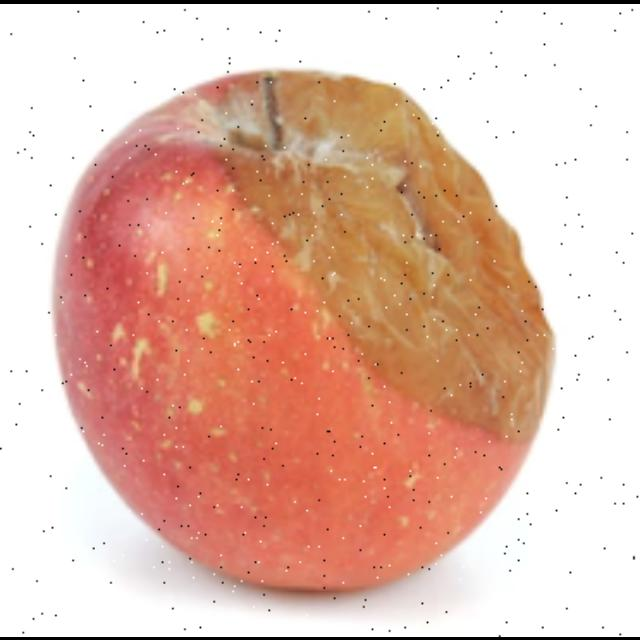Apel Tidak Segar: (44, 55, 564, 605)
